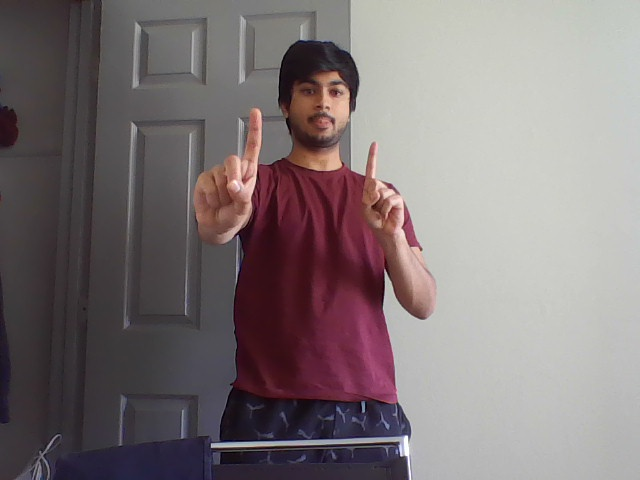one: (189, 102, 272, 243), (349, 136, 419, 241)
